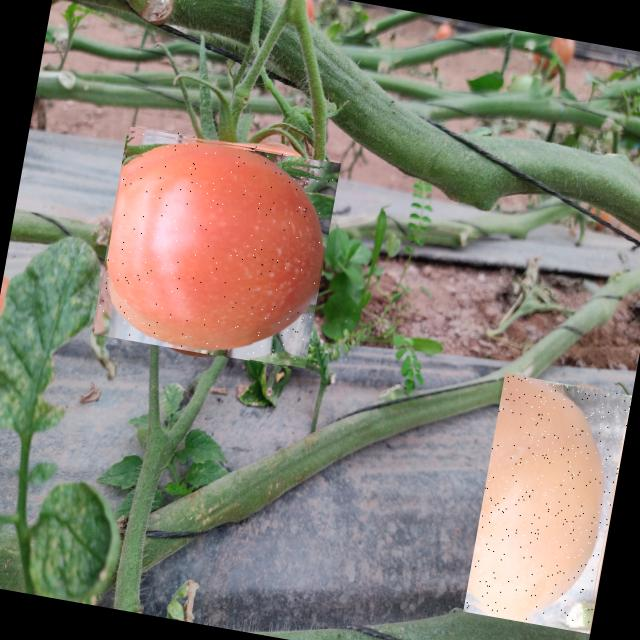Ripe Tomato: (93, 124, 339, 371), (462, 373, 632, 634)
